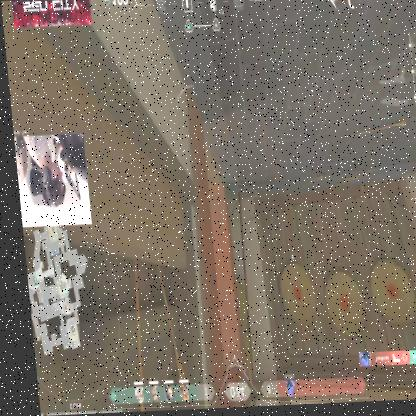streamer: (19, 134, 63, 209)
